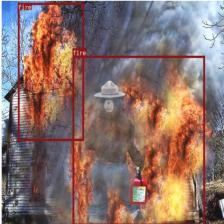fire: (72, 55, 204, 224), (18, 2, 84, 140)
